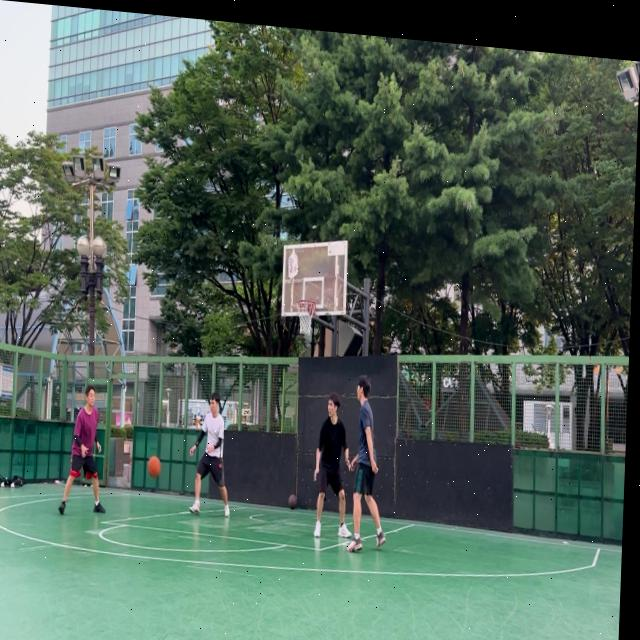basketball: (147, 454, 162, 480), (288, 493, 298, 511)
hoop: (295, 298, 316, 337)
